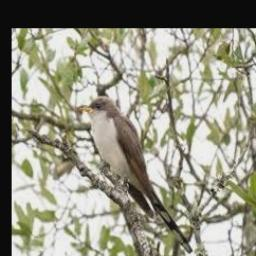Cuckoo: (81, 95, 194, 256)
